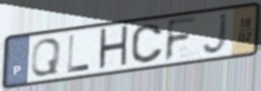C: (130, 23, 166, 66)
F: (163, 14, 199, 64)
H: (97, 23, 131, 73)
J: (201, 11, 230, 57)
L: (66, 33, 92, 75)
Q: (29, 37, 63, 78)
